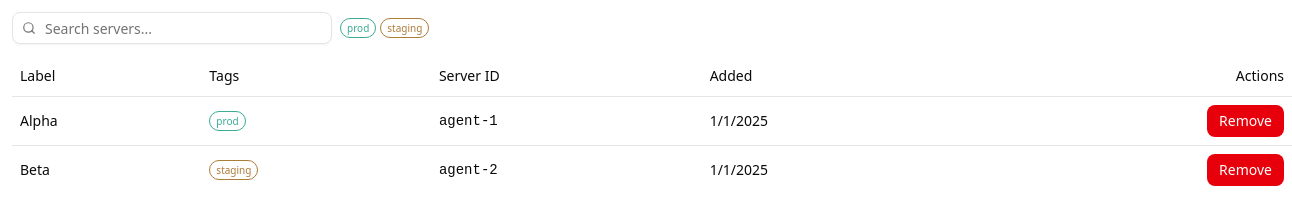
Test case: ServerList › pressing Escape cancels edit
Click the button "Alpha" at {"x": 39, "y": 120}, box [20,110,58,130]
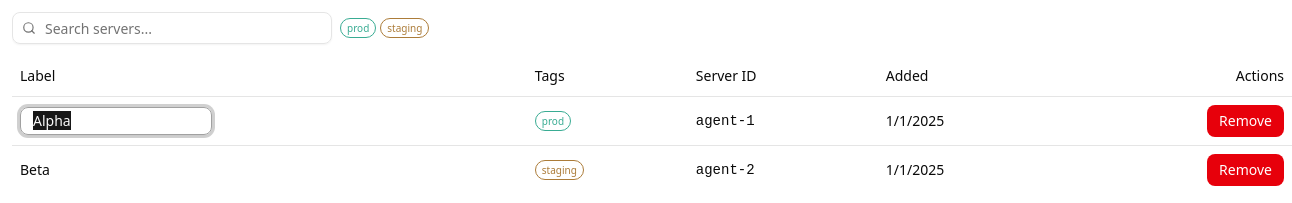
Replace the text in the field showing "Alpha" with "Changed" at {"x": 116, "y": 120}, box [20,106,212,134]
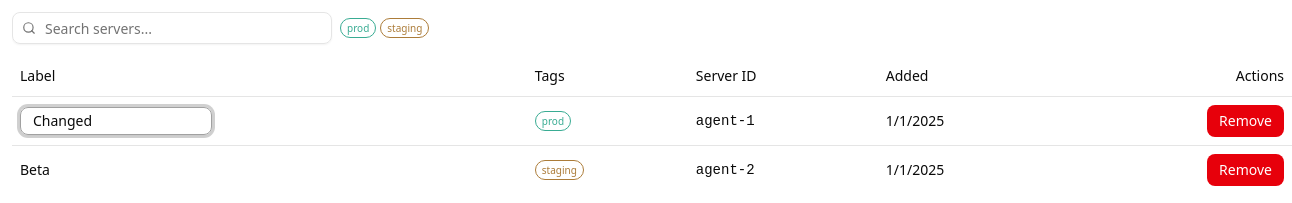
Press Escape in the field showing "Alpha", box [20,106,212,134]
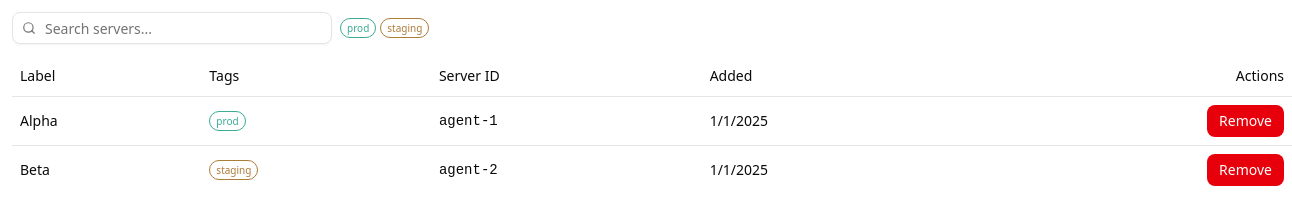
Check: the button "Alpha" is shown, box [20,110,58,130]
